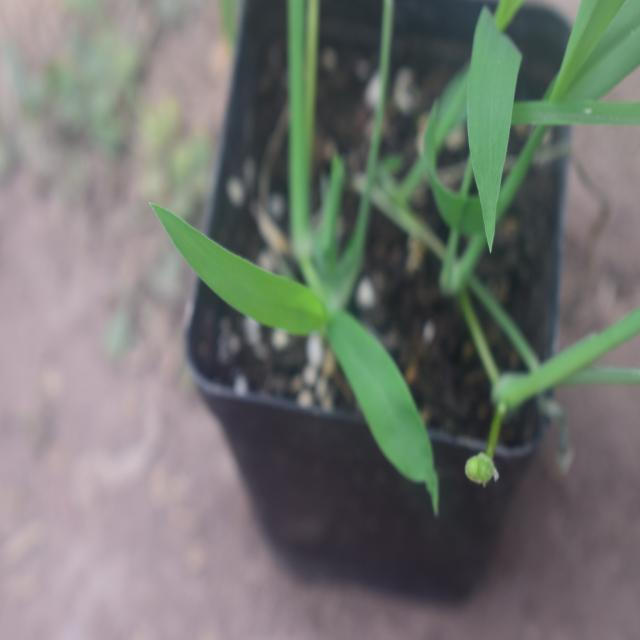crabgrass: (156, 188, 447, 488)
